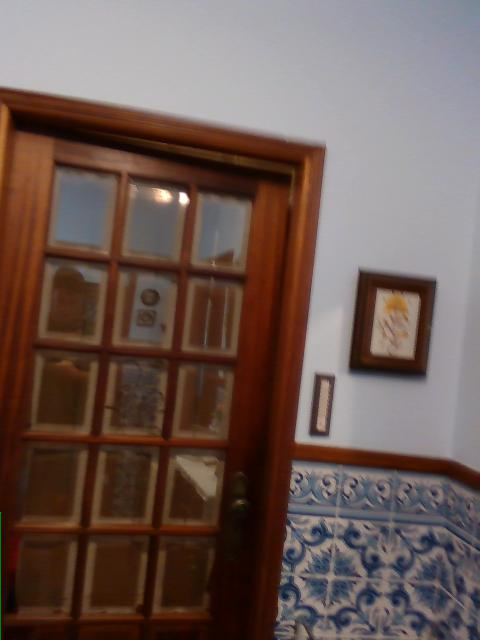door: (0, 83, 325, 639)
